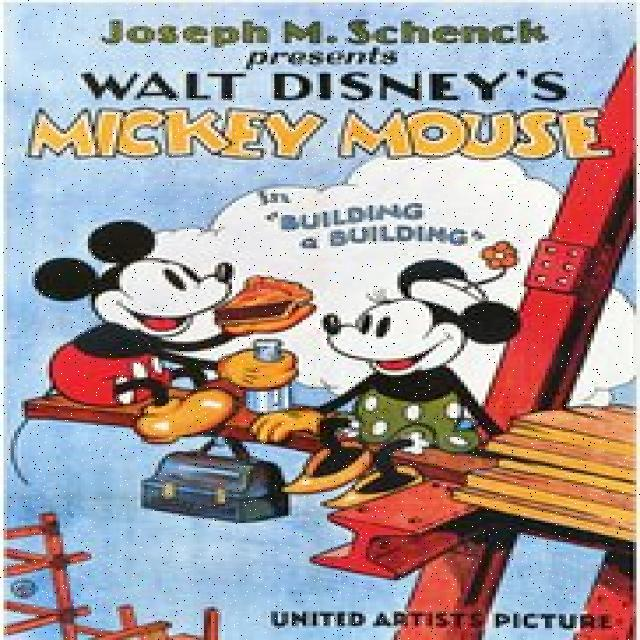movie-judul: (18, 13, 629, 190), (228, 190, 492, 264)
picture: (19, 188, 636, 640)
